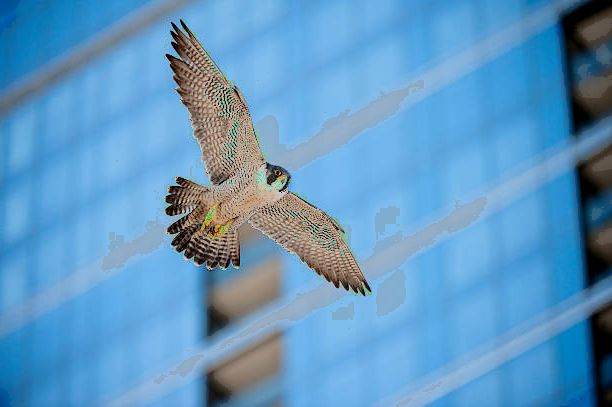Bird: (162, 14, 373, 299)
